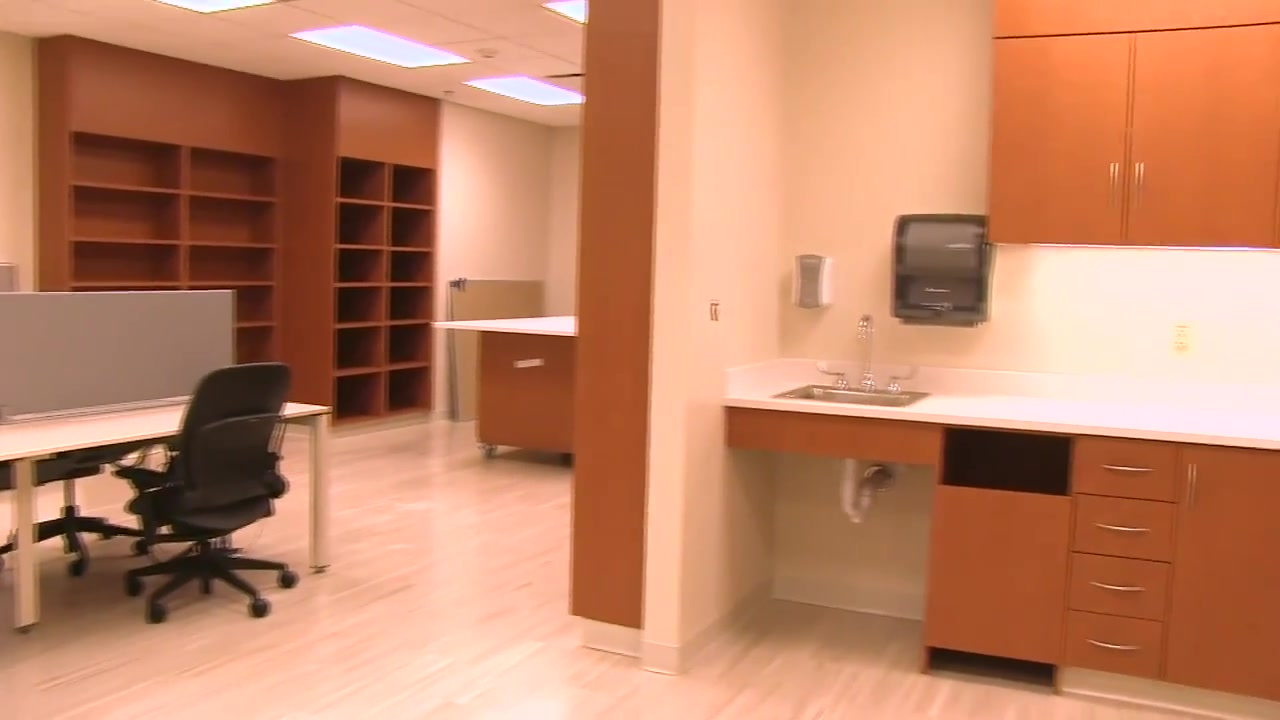cabinet: (989, 1, 1280, 246)
chair: (111, 362, 299, 624), (1, 440, 152, 577)
countertop: (722, 370, 1280, 453)
dispenser: (888, 213, 993, 328), (789, 252, 835, 310)
drawer: (935, 428, 1279, 719)
faucet: (816, 314, 924, 397)
handle: (1080, 634, 1145, 655), (1093, 520, 1151, 536), (1089, 580, 1147, 594), (1130, 161, 1146, 211), (1099, 461, 1156, 475), (1106, 160, 1120, 211), (1183, 463, 1197, 509)
sink: (770, 382, 932, 410)
table: (1, 395, 334, 635), (430, 316, 577, 462)
